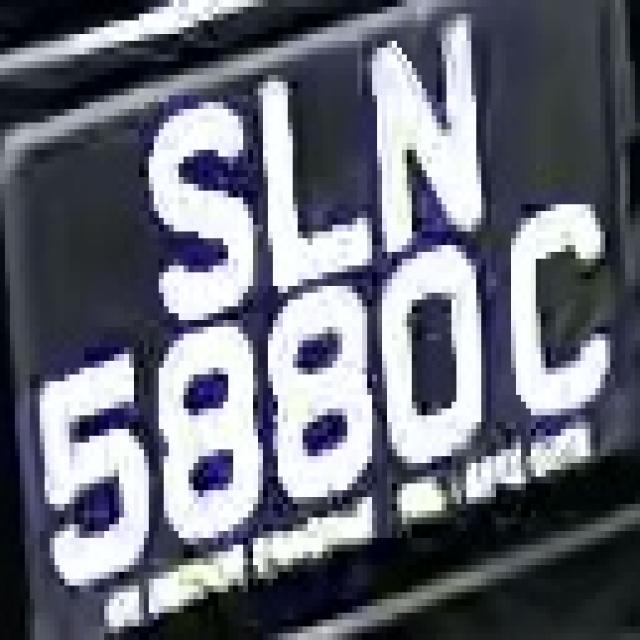0: (367, 225, 501, 483)
5: (30, 361, 139, 599)
8: (149, 293, 268, 531), (268, 286, 392, 511)
C: (496, 204, 615, 422)
L: (243, 61, 367, 286)
N: (357, 27, 506, 245)
S: (134, 102, 268, 313)
